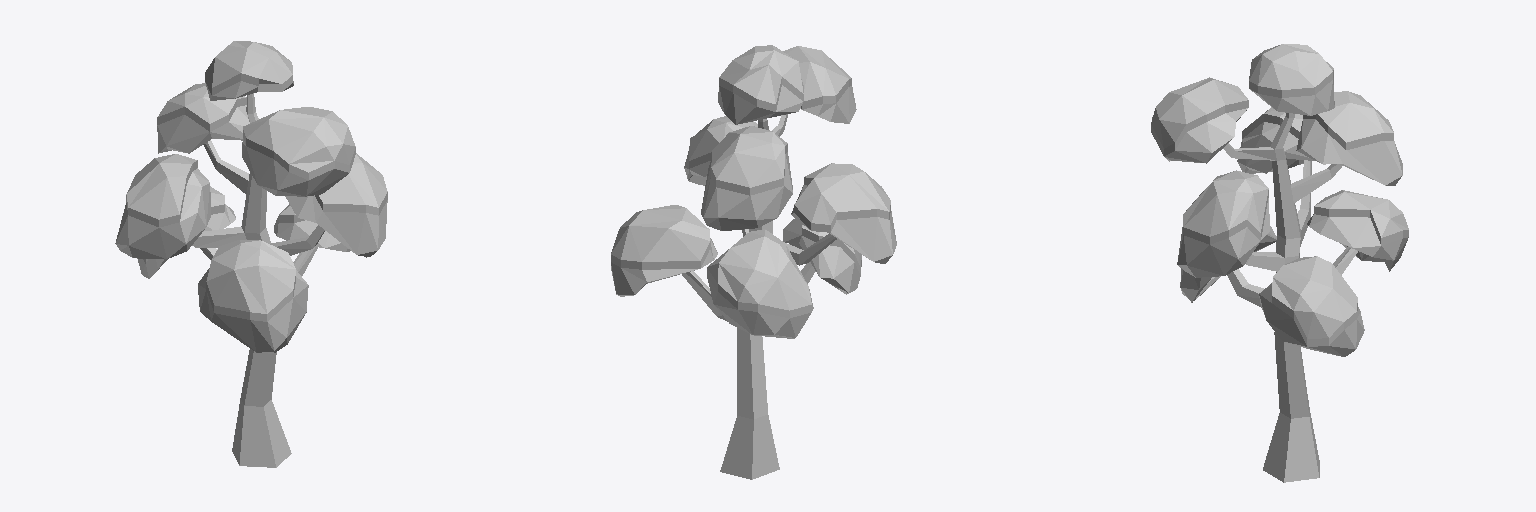
The model's file is tree.obj.
The picture shows the model from 3 angles: view 1: azimuth 30°, elevation 25°; view 2: azimuth 150°, elevation 25°; view 3: azimuth 270°, elevation 25°; orthographic projection.
Visible parts, largest first — view 1: SM_Env_Tree_014_Snow_Mesh; view 2: SM_Env_Tree_014_Snow_Mesh; view 3: SM_Env_Tree_014_Snow_Mesh.
Part boxes in pixels (x1,y1,x2,y2): SM_Env_Tree_014_Snow_Mesh: (115, 41, 387, 467); SM_Env_Tree_014_Snow_Mesh: (611, 45, 896, 479); SM_Env_Tree_014_Snow_Mesh: (1151, 44, 1408, 482).
Bounding box in the file's own units: 4.03 × 6.04 × 3.38.